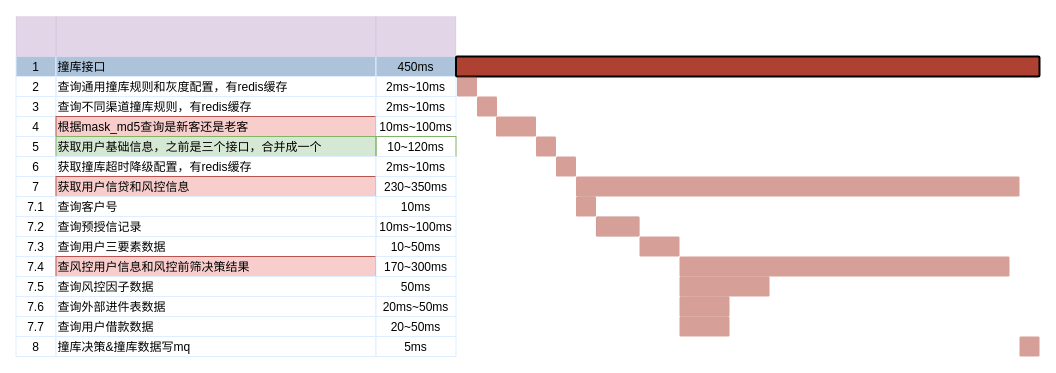
The diagram is 1056 pixels wide and 373 high, and some of its shapes have lost their labels. The shapes that lost their labels are listed below. From the top down, each one's centre as x and y in pixels, then its label:
At (x=216, y=36): "任务名".
At (x=416, y=36): "耗时".
